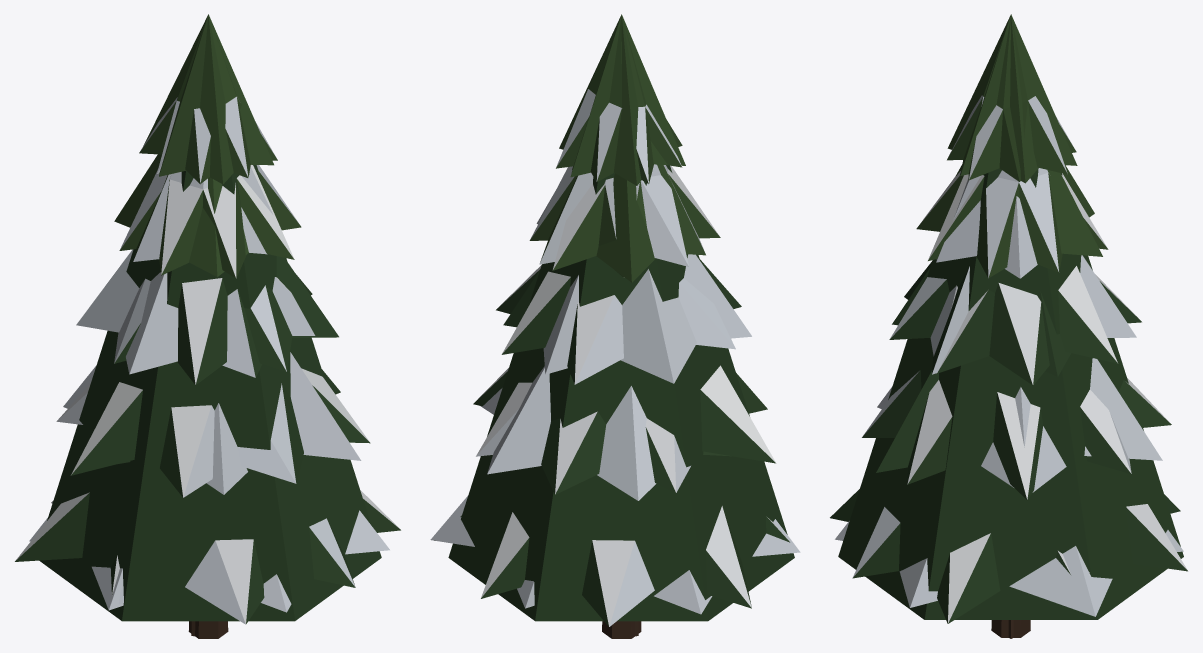
File: tree-pine-snow.glb
3 views of the same model, side by side, from view 1: azimuth 30°, elevation 25°; view 2: azimuth 150°, elevation 25°; view 3: azimuth 270°, elevation 25° (orthographic).
Visible parts, largest first — view 1: lod2_canopy, lod0_tier1, lod0_tier0, lod0_tier3, lod0_tier2, lod1_tier2, lod1_tier4, lod1_tier1, lod1_tier3, lod0_tier4, lod1_tier0, lod0_trunk; view 2: lod2_canopy, lod0_tier1, lod0_tier0, lod1_tier2, lod0_tier2, lod0_tier3, lod1_tier1, lod0_tier4, lod1_tier4, lod1_tier3, lod1_tier0, lod0_trunk; view 3: lod2_canopy, lod0_tier2, lod0_tier1, lod0_tier0, lod0_tier3, lod0_tier4, lod1_tier1, lod1_tier3, lod1_tier4, lod1_tier0, lod1_tier2, lod0_trunk.
Part boxes in pixels (x1,y1,x2,y2): lod2_canopy: (39,165,381,621); lod0_tier1: (56,368,370,497); lod0_tier0: (15,490,400,624); lod0_tier3: (119,165,301,278); lod0_tier2: (114,275,315,385); lod1_tier2: (76,249,338,377); lod1_tier4: (143,14,273,184); lod1_tier1: (63,352,361,494); lod1_tier3: (114,154,272,276); lod0_tier4: (139,15,277,184); lod1_tier0: (29,510,389,612); lod0_trunk: (188,621,228,638); lod2_canopy: (448,165,794,621); lod0_tier1: (473,365,776,494); lod0_tier0: (434,506,789,626); lod1_tier2: (503,254,751,383); lod0_tier2: (496,259,741,384); lod0_tier3: (529,164,720,277); lod1_tier1: (480,366,731,500); lod0_tier4: (556,14,682,183); lod1_tier4: (559,14,685,185); lod1_tier3: (536,164,705,282); lod1_tier0: (430,495,800,614); lod0_trunk: (602,621,641,638); lod2_canopy: (838,168,1183,619); lod0_tier2: (889,261,1141,385); lod0_tier1: (862,370,1171,499); lod0_tier0: (830,489,1187,623); lod0_tier3: (916,168,1108,278); lod0_tier4: (947,15,1076,181); lod1_tier1: (876,358,1162,492); lod1_tier3: (936,164,1102,278); lod1_tier4: (947,14,1077,183); lod1_tier0: (835,521,1183,616); lod1_tier2: (892,255,1136,376); lod0_trunk: (991,620,1030,637).
Size of the model in its own units: 4.17 by 7.6 by 4.01.
